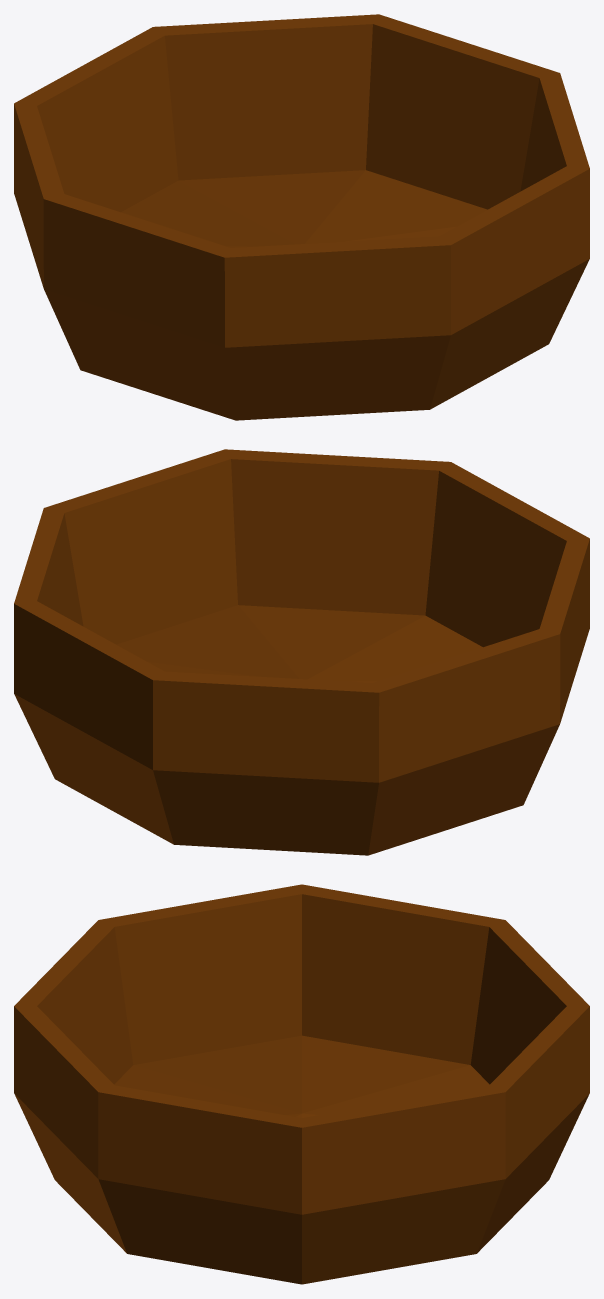
Rendered from Bowl3.fbx.
3 views of the same model, one above another, from view 1: azimuth 30°, elevation 25°; view 2: azimuth 150°, elevation 25°; view 3: azimuth 270°, elevation 25° (orthographic). The views are drawn at different scales.
Parts seen in each view (by area): view 1: Bowl3; view 2: Bowl3; view 3: Bowl3.
Boxes of the visible parts, x1,y1,x2,y2 form: Bowl3: (14, 14, 589, 420); Bowl3: (14, 449, 589, 855); Bowl3: (14, 884, 589, 1284).
Bounding box in the file's own units: 18 × 6 × 18.
